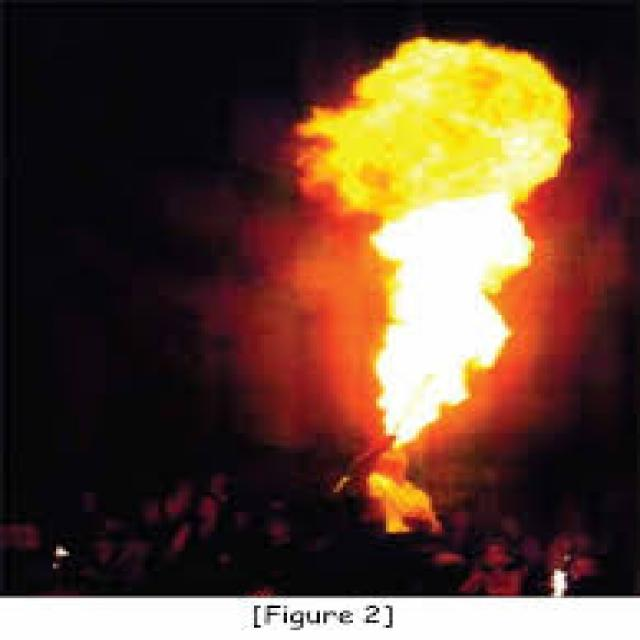fire: (295, 38, 571, 449)
